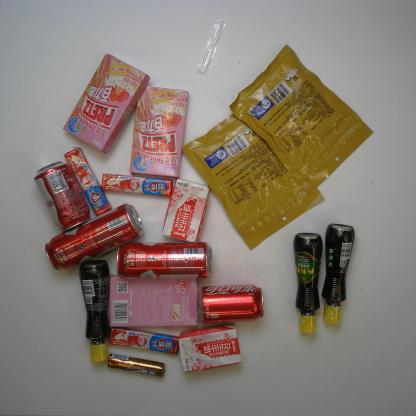Alcohol: (44, 202, 143, 272), (116, 240, 212, 279)
Candy: (62, 148, 111, 216), (110, 325, 182, 354), (106, 351, 167, 379), (102, 173, 174, 196)
Dessert: (61, 53, 150, 156), (131, 83, 189, 179), (108, 273, 201, 329)
Dried Fruit: (228, 44, 374, 195), (182, 112, 325, 251)
Drink: (34, 160, 92, 232), (200, 285, 265, 324)
Milk: (178, 326, 244, 374), (162, 178, 210, 242)
Seasoner: (78, 259, 112, 363), (322, 222, 355, 325), (291, 233, 324, 335)
